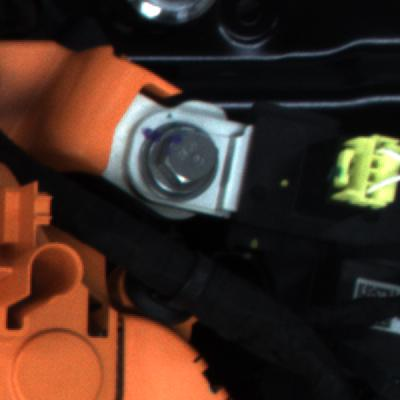nut_b: (136, 117, 228, 207)
